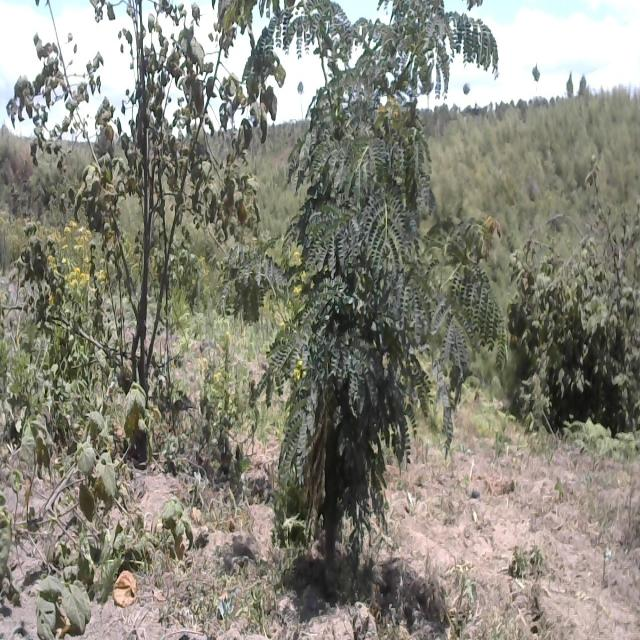Leucaena leucophala: (259, 0, 515, 571)
other: (9, 0, 258, 348), (0, 356, 176, 640), (507, 220, 639, 423)
